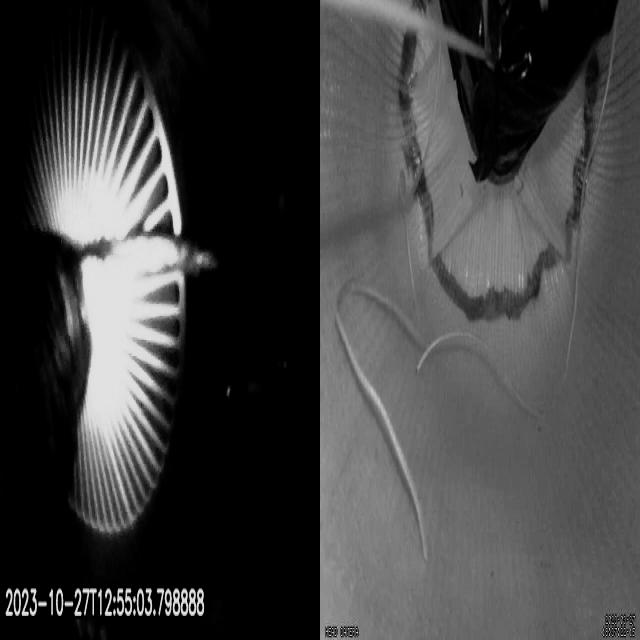red-circle: (397, 0, 602, 325)
